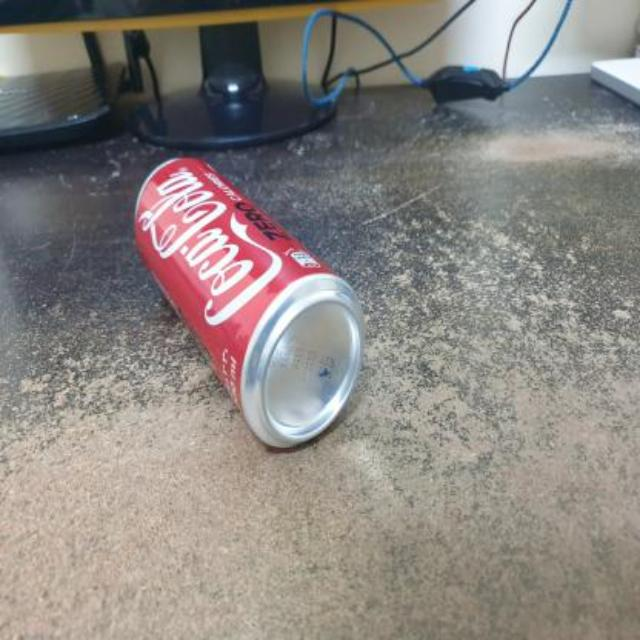metal: (134, 157, 360, 445)
